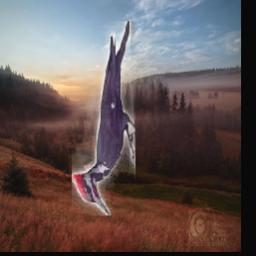Woodpecker: (72, 21, 135, 216)
